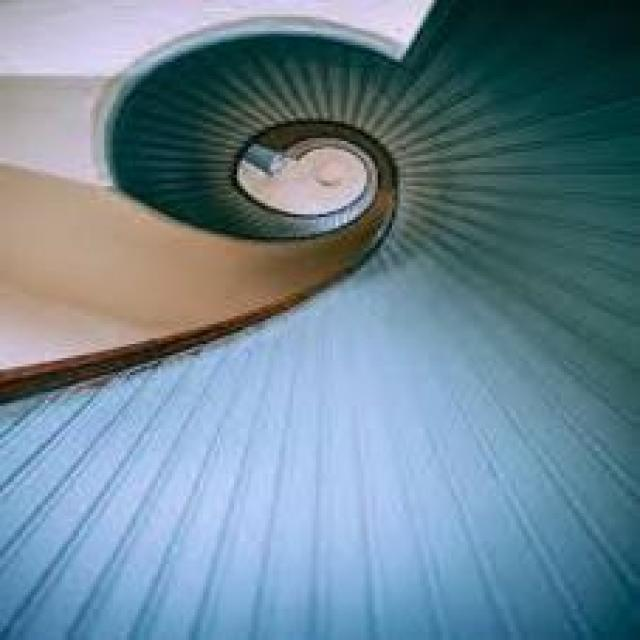downstair: (108, 365, 492, 573)
